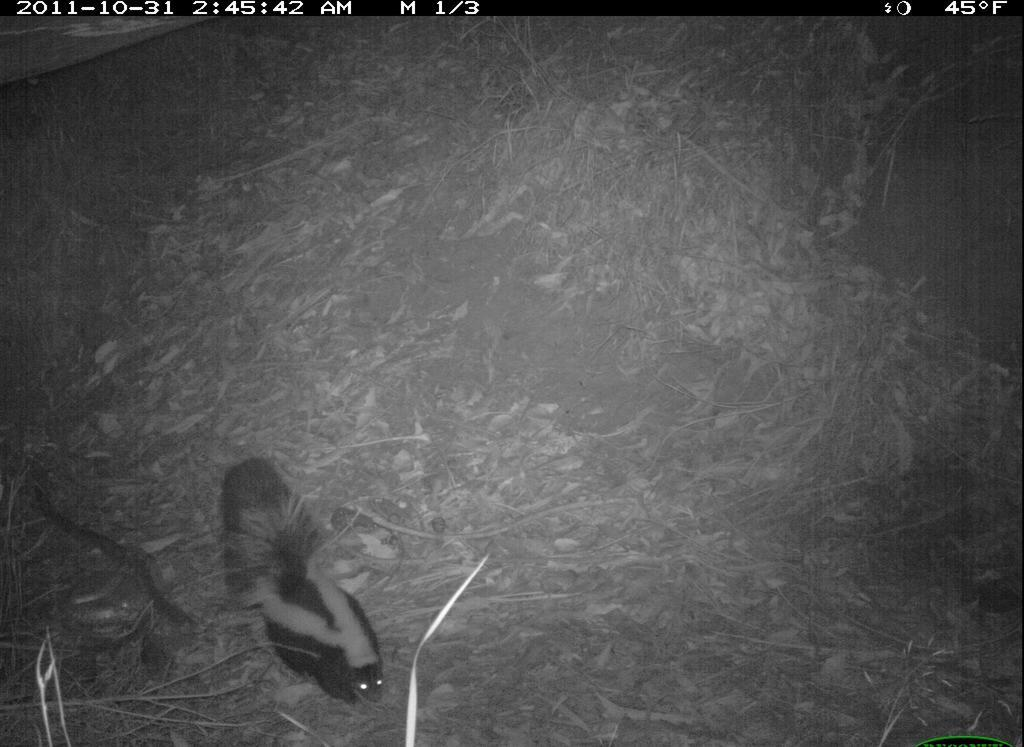skunk: (210, 446, 395, 715)
